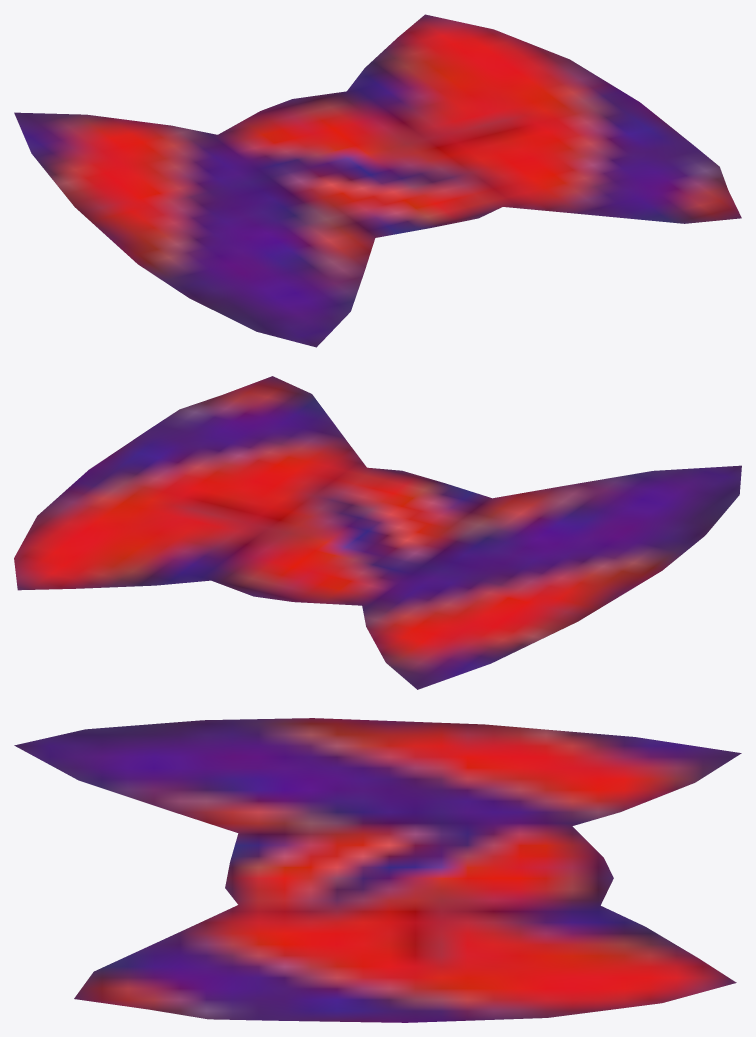
File: power-tie.glb
3 views of the same model, one above another, from view 1: azimuth 30°, elevation 25°; view 2: azimuth 150°, elevation 25°; view 3: azimuth 270°, elevation 25° (orthographic). The views are drawn at different scales.
Parts seen in each view (by area): view 1: power-tie; view 2: power-tie; view 3: power-tie.
Boxes of the visible parts, x1,y1,x2,y2 form: power-tie: [14, 14, 741, 347]; power-tie: [14, 376, 741, 689]; power-tie: [14, 718, 741, 1022].
Bounding box in the file's own units: 0.3698 × 3.09e-15 × 0.3732.
Materials: 1 (1 with a texture image).
